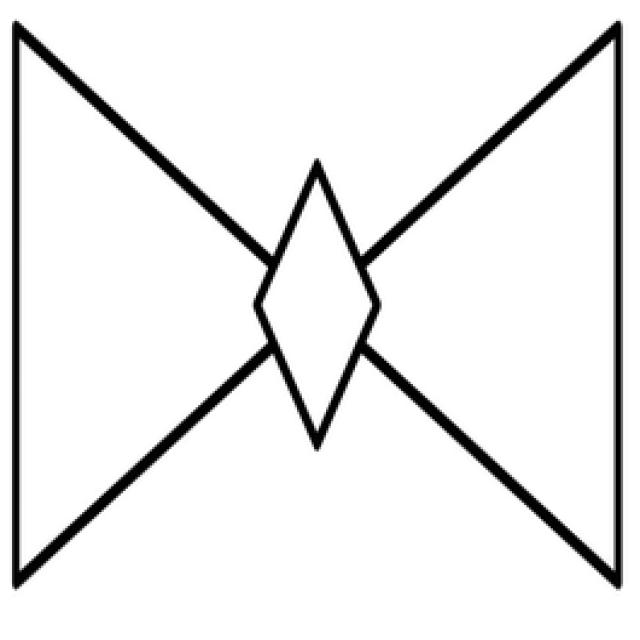Plug Valve: (14, 19, 618, 584)
